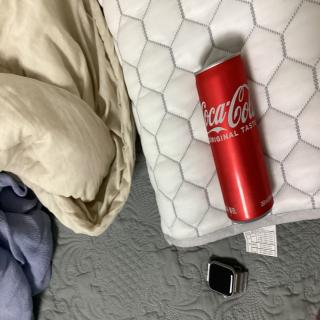cocacola: (190, 47, 284, 232)
